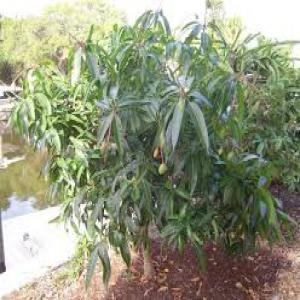Tree: (10, 12, 288, 282)
